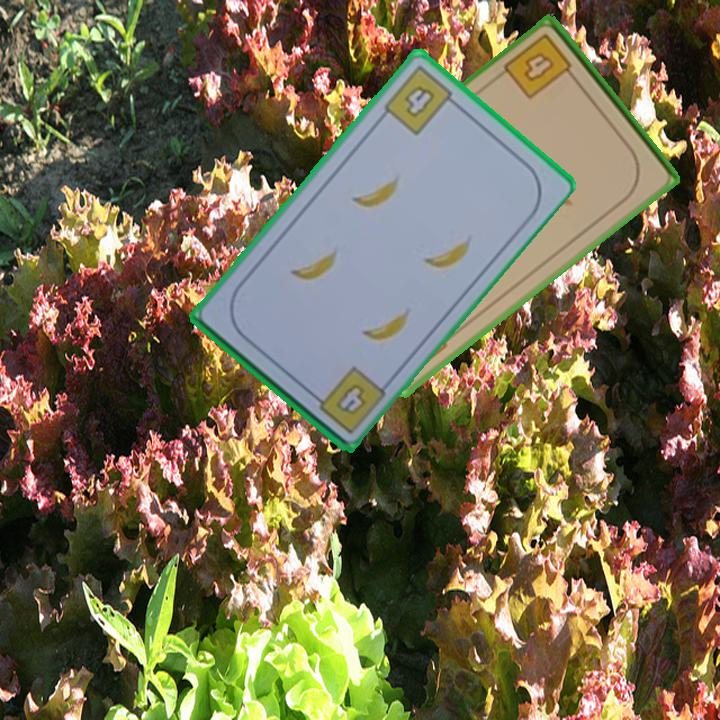4b: (380, 61, 462, 139), (306, 362, 389, 437), (500, 30, 580, 103)
